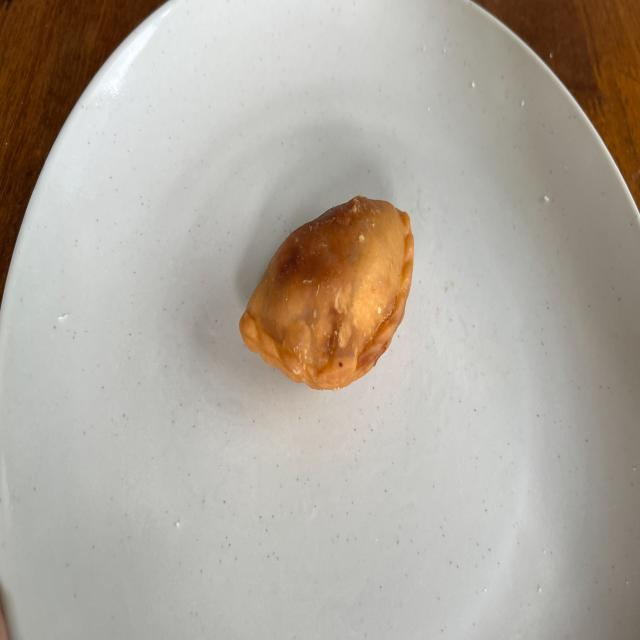karipap: (240, 196, 414, 389)
